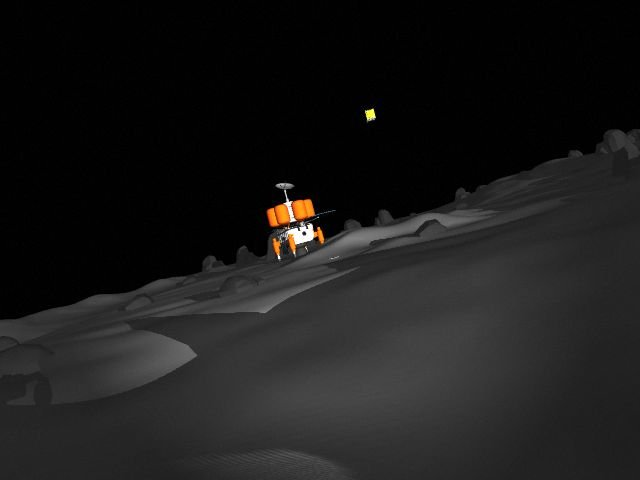homebase: (246, 180, 338, 264)
